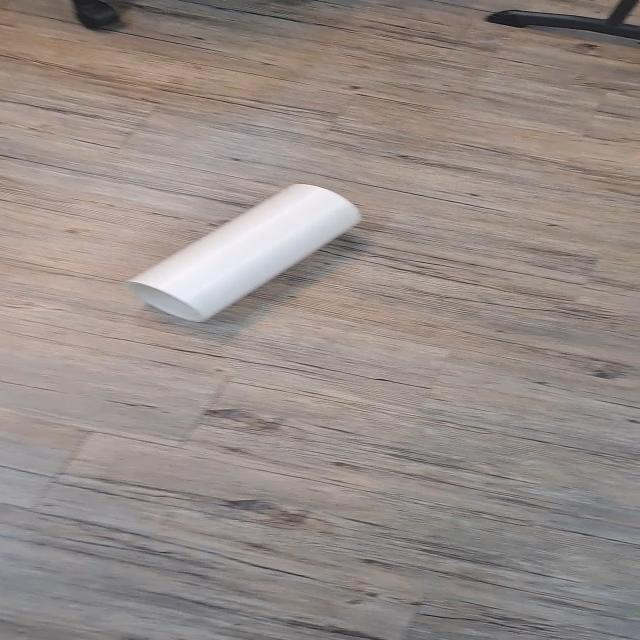CORAL: (113, 177, 369, 340)
